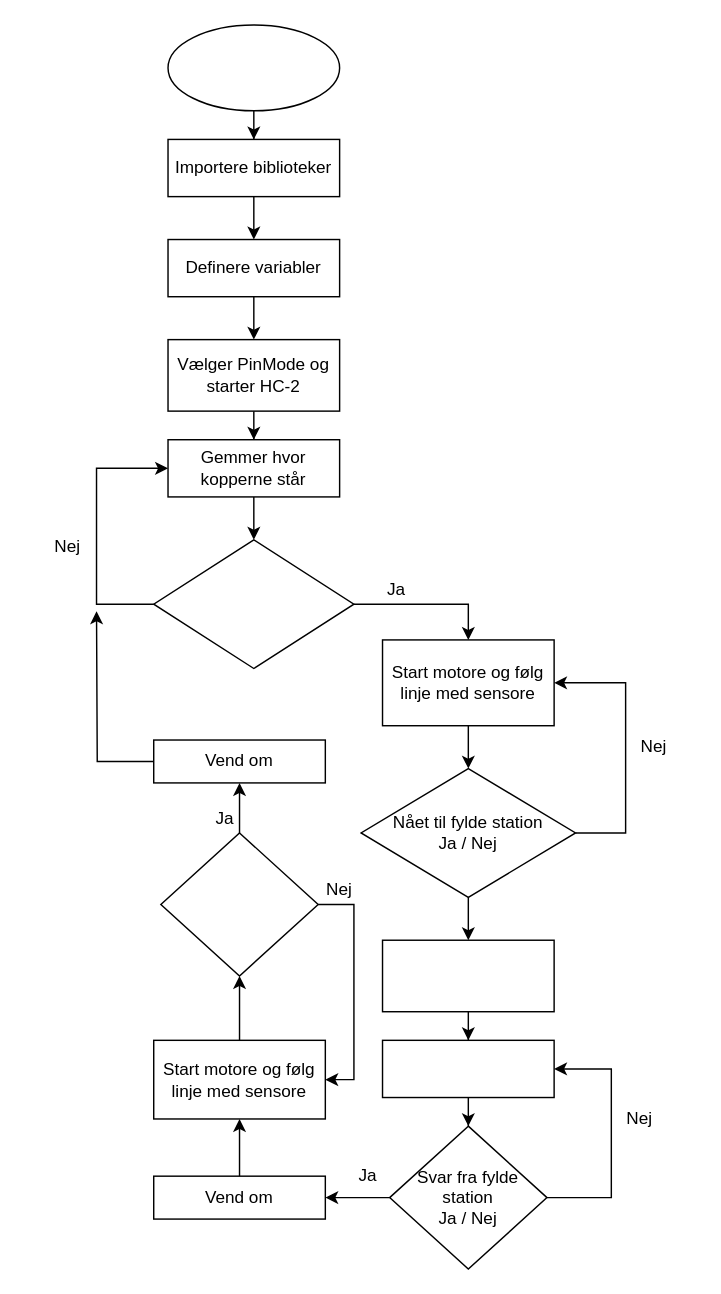
The diagram is 721 pixels wide and 1294 high, and some of its shapes have lost their labels. Each missing label, with the centre of its shape:
Knap trykket Ja / Nej: point 253,603
Nået til enden Ja / Nej: point 238,904
Send antal kopper og placering til fyldestation: point 467,975
Staret: point 253,67
Vent på svar fra fylde station: point 467,1068
